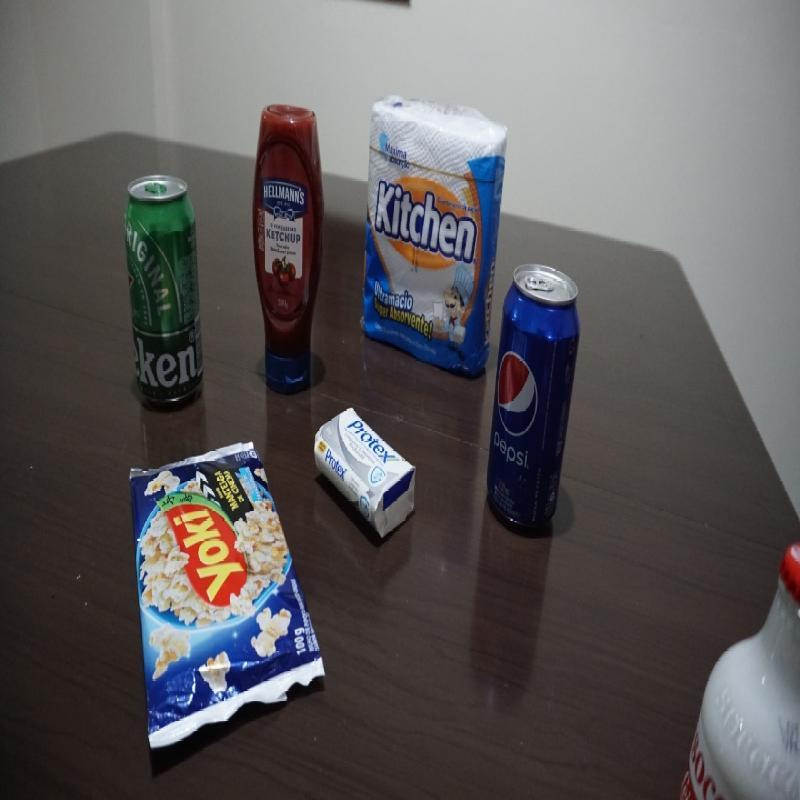Beer can: (123, 173, 205, 410)
Coconut Milk: (678, 539, 800, 799)
Ketchup: (253, 104, 326, 400)
Napkin: (358, 92, 508, 380)
Popcorn: (125, 440, 324, 752)
Soap: (309, 403, 417, 546)
Soda can: (488, 258, 582, 536)
